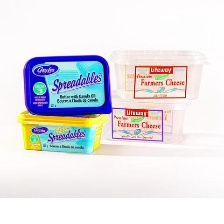plastic_box: (102, 40, 212, 107), (18, 48, 116, 119), (11, 102, 113, 158), (101, 91, 194, 148)
